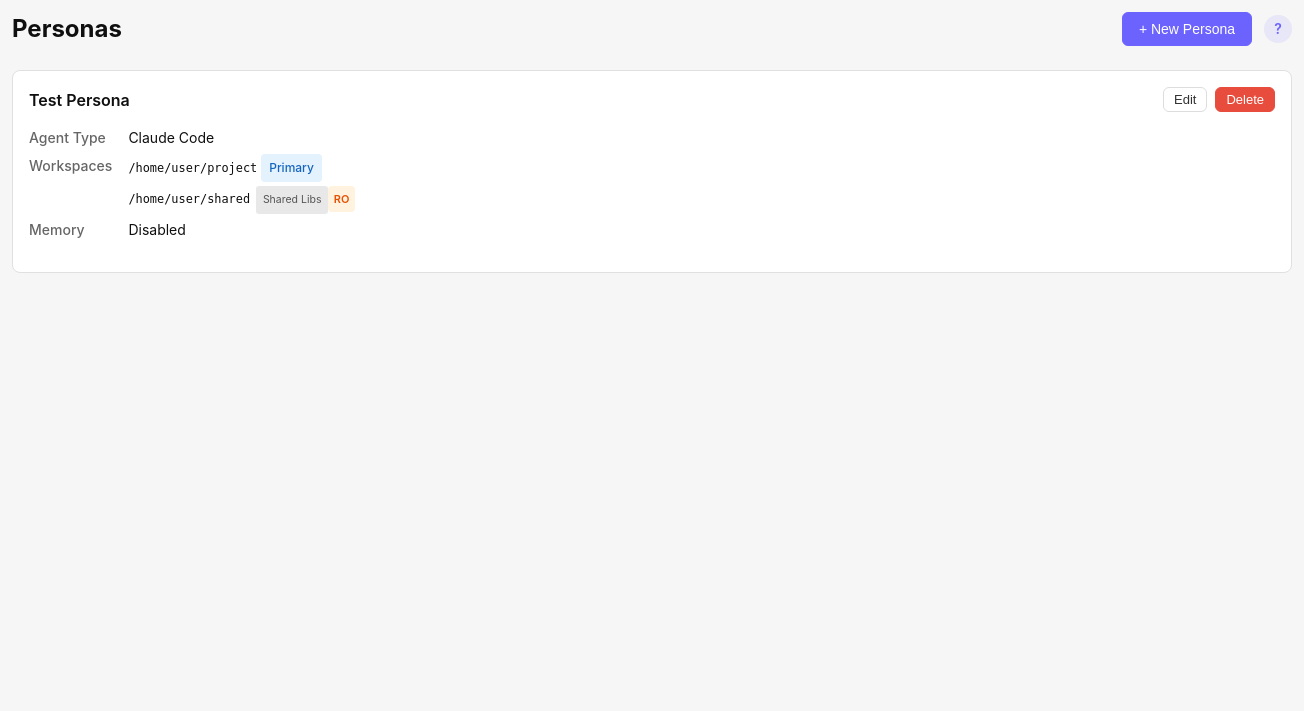
Test: PersonasPage - Additional Workspaces › read-only toggle displays badge
This screenshot has width=1304, height=711.
Click the button "+ New Persona". click: (1187, 29)
box: [1122,12,1252,46]
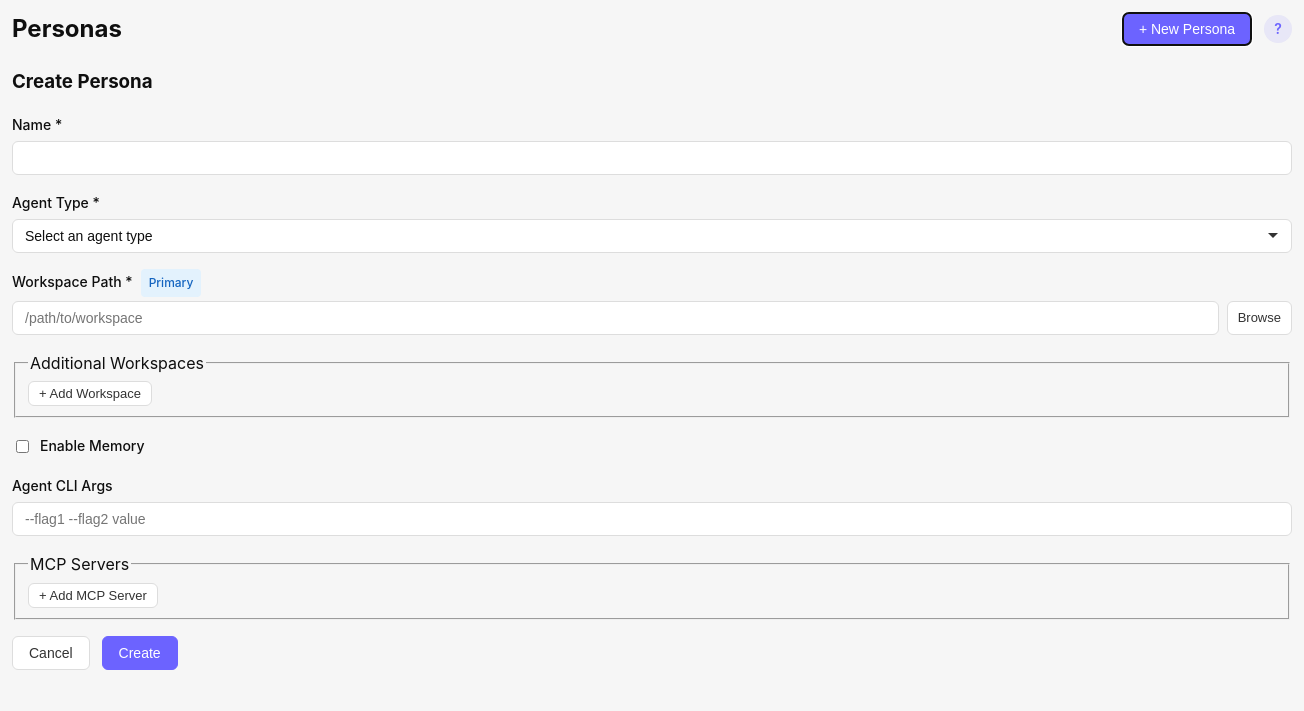
Click the button "+ Add Workspace". click: (90, 394)
box: [28,381,152,406]
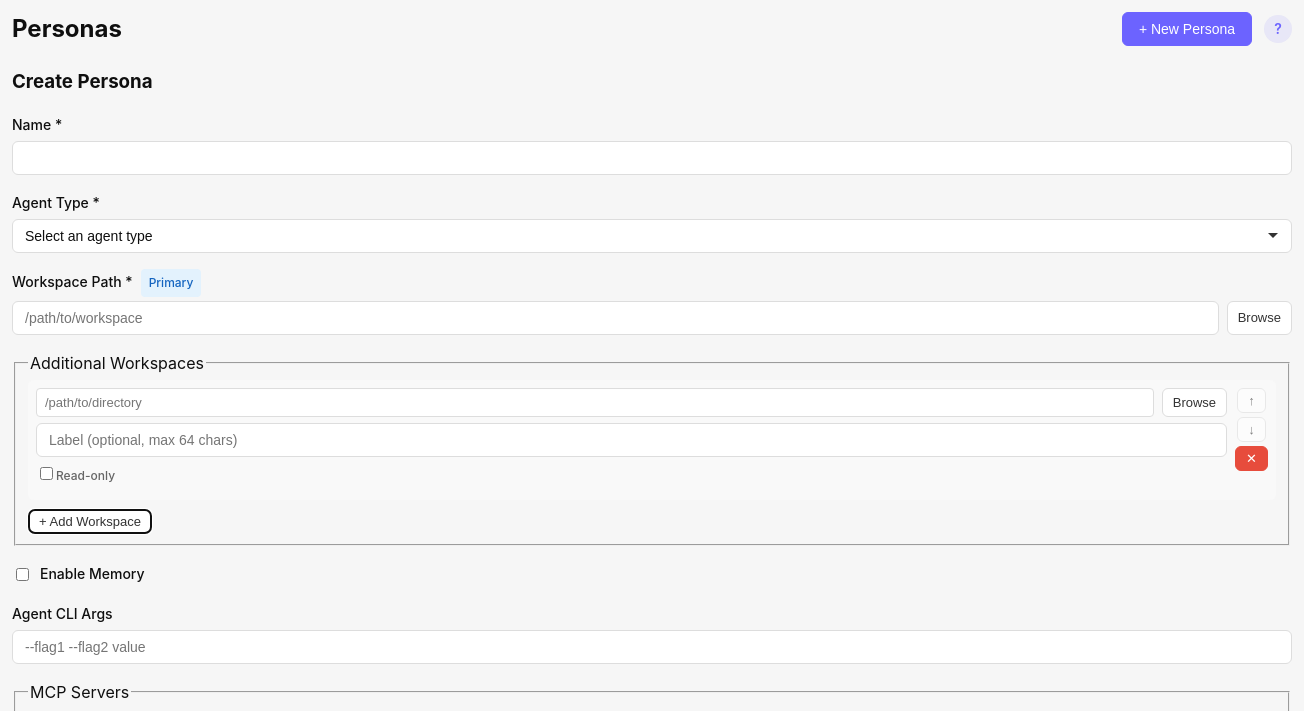
Note: Toggle read-only on
Click the checkbox named "Additional workspace 1 read-only". click: (46, 474)
box: [40,467,53,480]
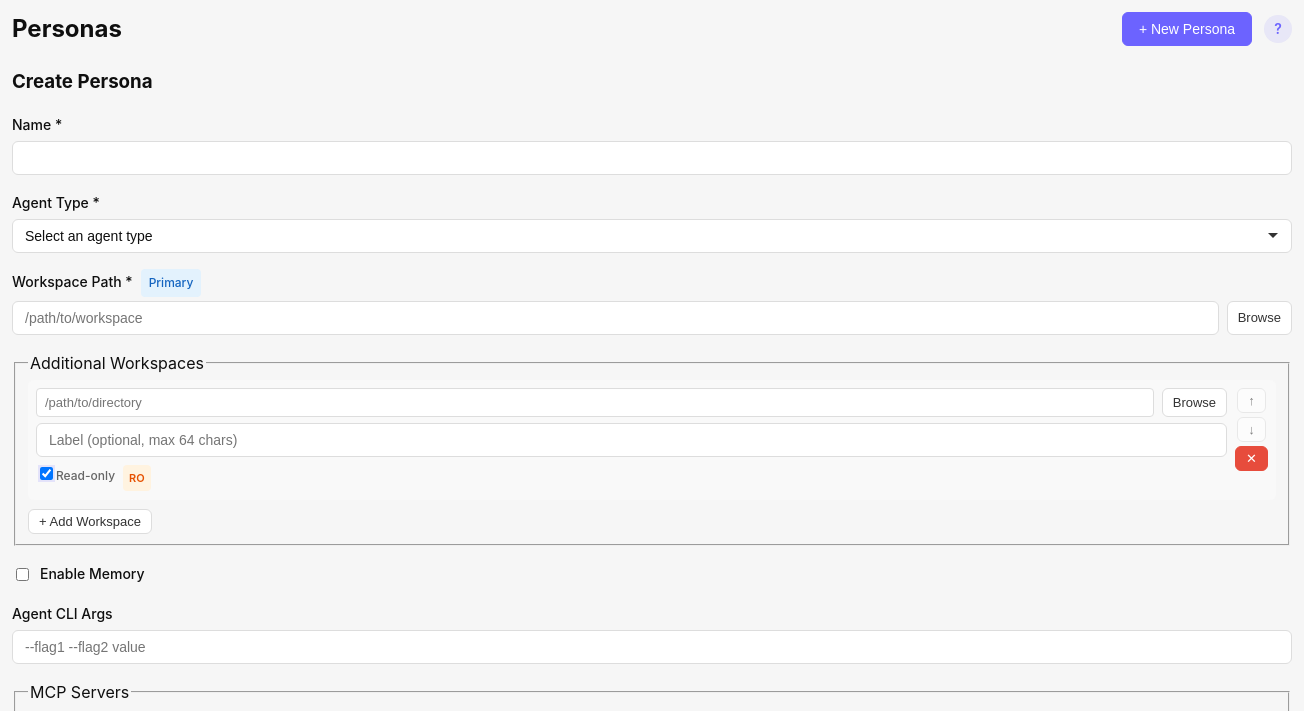
Now the text "RO" is shown, box [123,465,151,491]
